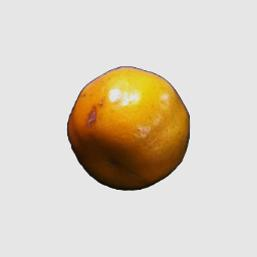Ripe: (68, 66, 191, 191)
